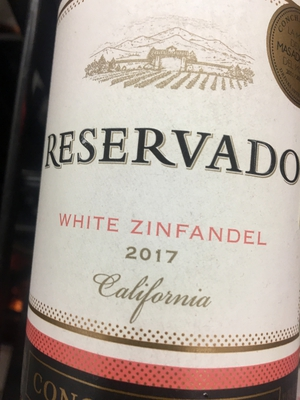reservado white zinfandel: (30, 3, 300, 392)
